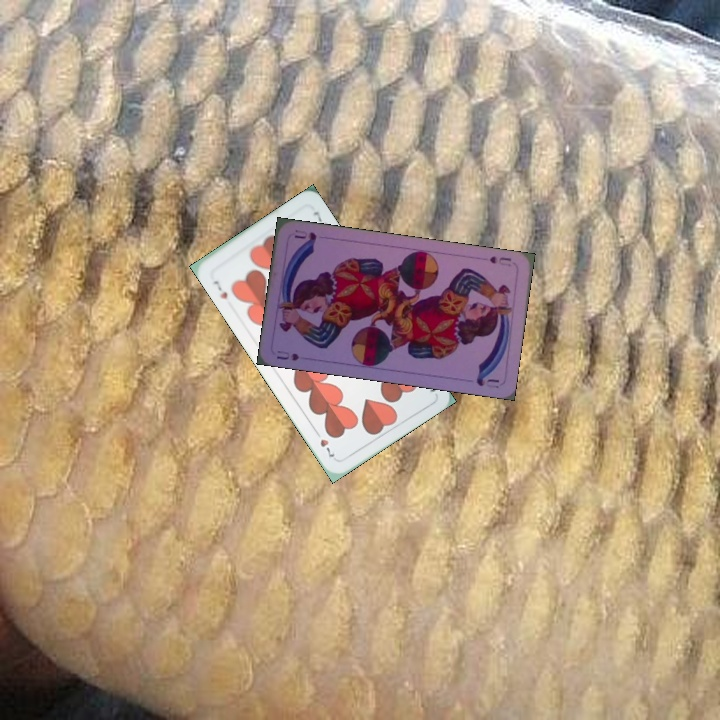H7: (209, 276, 230, 301)
SU: (272, 346, 302, 363), (485, 252, 514, 269)
